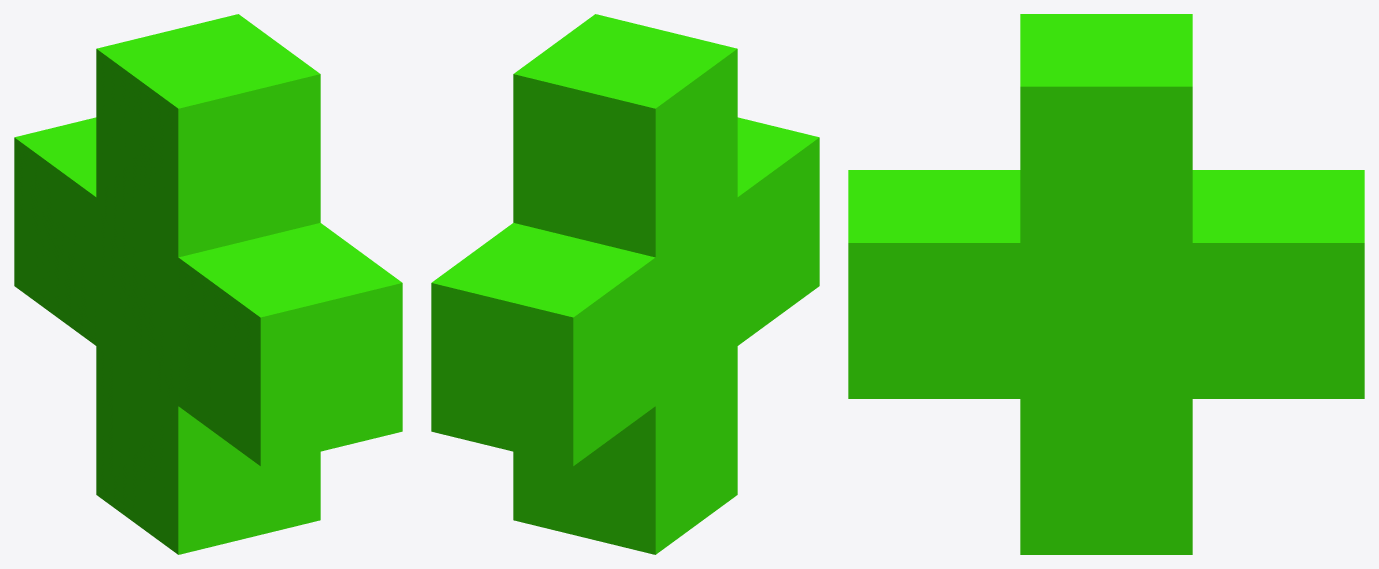
The model's file is SM_Health.fbx.
3 views of the same model, side by side, from view 1: azimuth 30°, elevation 25°; view 2: azimuth 150°, elevation 25°; view 3: azimuth 270°, elevation 25° (orthographic). The views are drawn at different scales.
Visible parts, largest first — view 1: SM_Health; view 2: SM_Health; view 3: SM_Health.
Boxes of the visible parts, x1,y1,x2,y2 form: SM_Health: (14, 14, 402, 554); SM_Health: (431, 14, 819, 554); SM_Health: (848, 14, 1364, 554).
Bounding box in the file's own units: 600 × 200 × 600.
